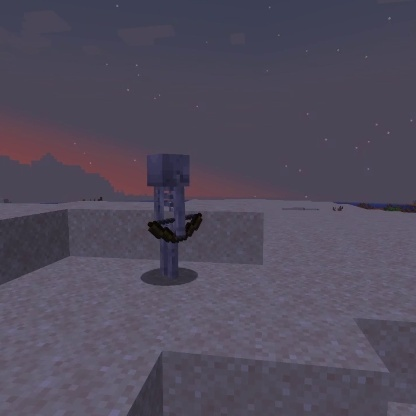skeleton: (143, 151, 206, 283)
